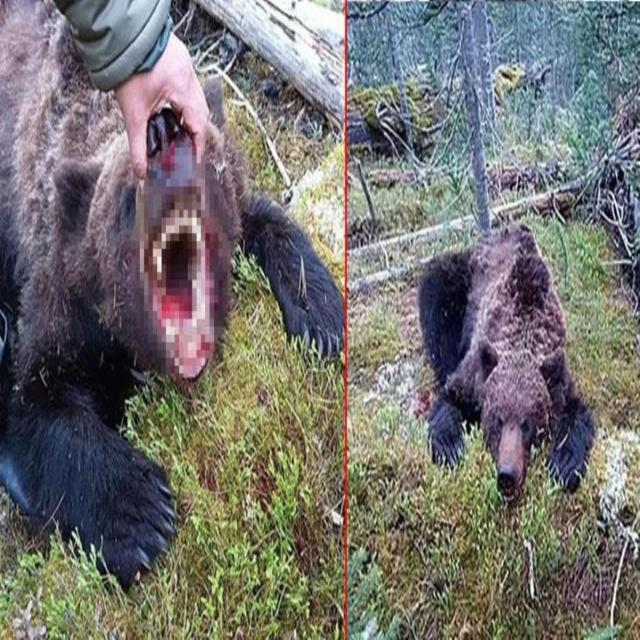Bear: (417, 228, 596, 508)
